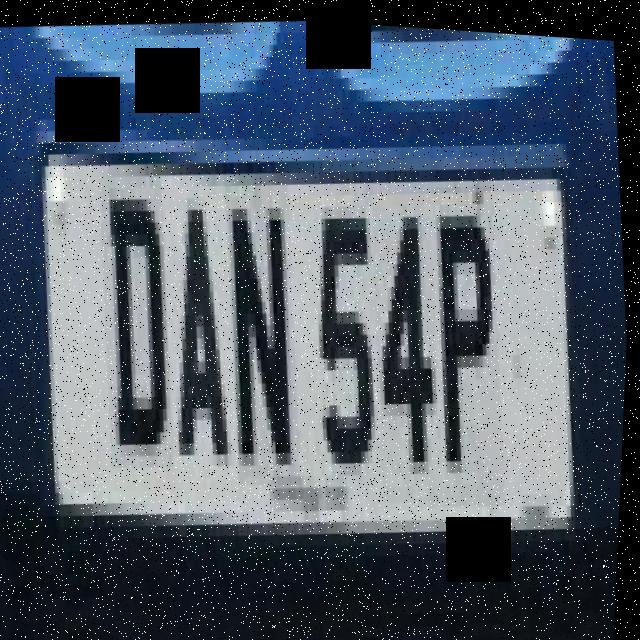4: (361, 182, 458, 500)
5: (303, 172, 395, 479)
A: (154, 171, 250, 483)
D: (90, 170, 187, 469)
N: (217, 176, 315, 485)
P: (422, 176, 520, 503)
